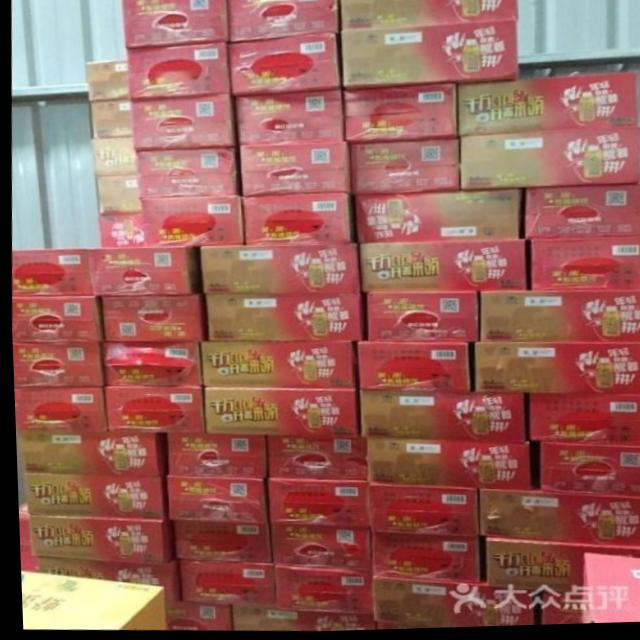box: (341, 22, 518, 92), (458, 130, 640, 194), (456, 75, 637, 139), (475, 490, 640, 549), (356, 391, 522, 446), (482, 539, 640, 596), (354, 191, 520, 245), (471, 344, 640, 397), (17, 570, 161, 631), (478, 293, 640, 347), (363, 439, 525, 493), (358, 241, 524, 293), (367, 577, 528, 630), (198, 245, 358, 295), (197, 342, 356, 390), (12, 428, 163, 478), (204, 294, 361, 342), (202, 390, 354, 439), (23, 515, 170, 563), (18, 474, 164, 522), (227, 34, 338, 96), (342, 85, 455, 145), (33, 557, 175, 603), (523, 188, 640, 241), (347, 140, 457, 196), (238, 143, 349, 198), (233, 90, 342, 146), (526, 396, 640, 449), (126, 41, 228, 100), (242, 192, 351, 247), (528, 241, 640, 294), (536, 444, 640, 501), (363, 485, 474, 538), (129, 95, 234, 151), (83, 247, 199, 296), (340, 0, 517, 32), (355, 344, 467, 394), (366, 534, 475, 585), (364, 294, 475, 344), (268, 564, 369, 617), (138, 197, 240, 248), (133, 149, 237, 198), (163, 476, 264, 526), (263, 480, 366, 529), (99, 294, 204, 342), (172, 559, 270, 610), (123, 0, 227, 48), (96, 341, 198, 388), (163, 433, 264, 480), (265, 526, 366, 573), (262, 436, 364, 482), (576, 555, 640, 627), (227, 0, 336, 42), (101, 388, 201, 433), (11, 385, 105, 431), (168, 520, 266, 564), (9, 296, 101, 342), (10, 341, 101, 387), (9, 250, 89, 296), (226, 607, 370, 632), (160, 603, 226, 631), (85, 59, 128, 101), (91, 137, 134, 177), (96, 175, 140, 213), (96, 213, 143, 248), (89, 100, 131, 138), (536, 593, 581, 628), (15, 500, 27, 547), (371, 624, 439, 632), (16, 547, 33, 572)
